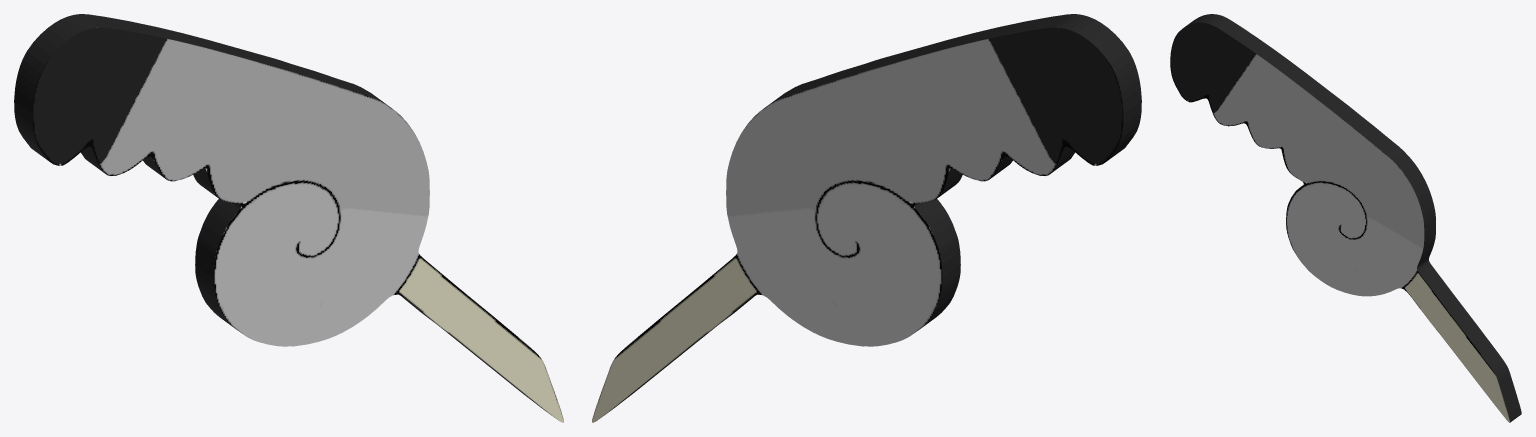
File: feather.glb
3 renders of one model, left to right at view 1: azimuth 30°, elevation 25°; view 2: azimuth 150°, elevation 25°; view 3: azimuth 330°, elevation 25°, orthographic. The views are drawn at different scales.
Parts seen in each view (by area): view 1: NurbsPath; view 2: NurbsPath; view 3: NurbsPath.
Boxes of the visible parts, <box> form: NurbsPath: <box>14,14,563,422</box>; NurbsPath: <box>592,14,1141,422</box>; NurbsPath: <box>1170,14,1521,422</box>.
Size of the model in its own units: 1.67 by 1.53 by 0.1.
1 material, 1 textured.
